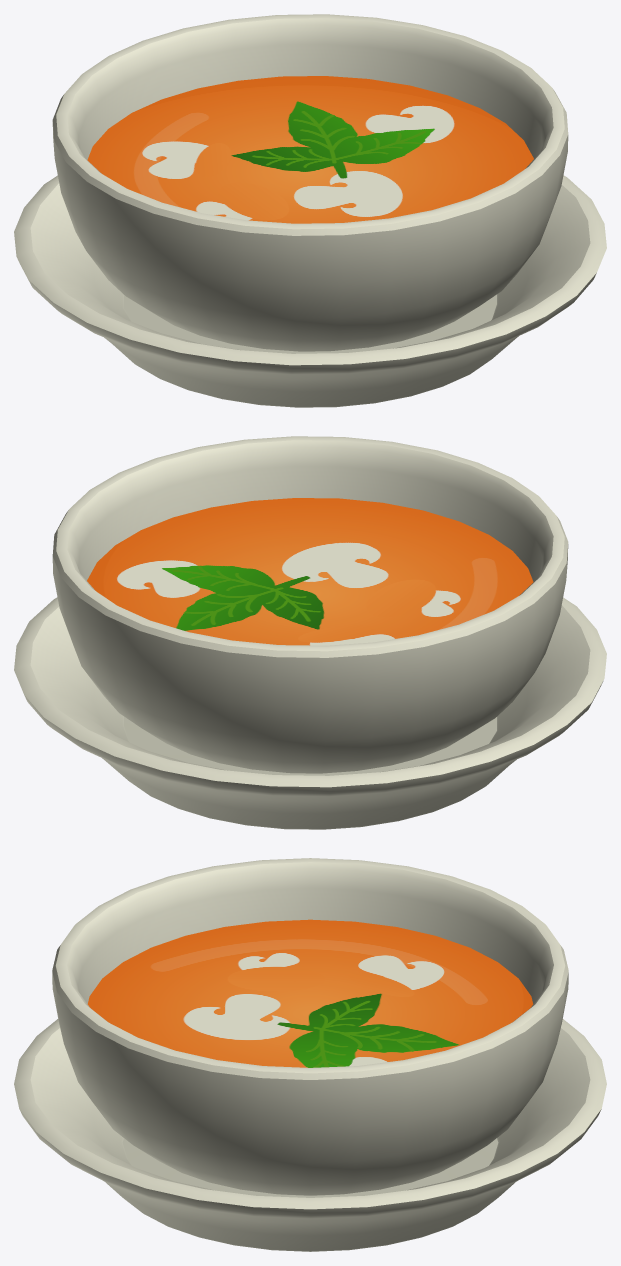
File: Soup.fbx
3 renders of one model, top to bottom at view 1: azimuth 30°, elevation 25°; view 2: azimuth 150°, elevation 25°; view 3: azimuth 270°, elevation 25°, orthographic.
Visible parts, largest first — view 1: Soup; view 2: Soup; view 3: Soup.
Boxes of the visible parts, x1,y1,x2,y2 form: Soup: [14, 14, 606, 407]; Soup: [14, 436, 606, 829]; Soup: [14, 858, 606, 1251].
Size of the model in its own units: 16.37 by 6.23 by 16.37.
